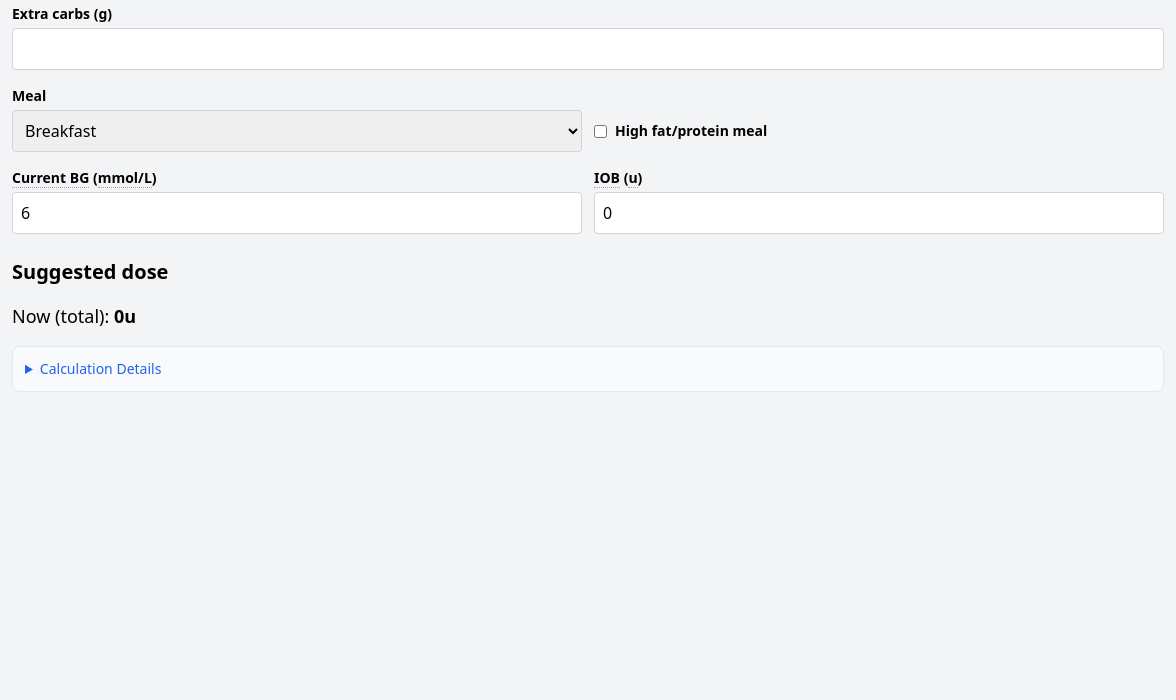
Test: DoseRecommendation › shows breakdown details when expanded
What coordinates should you click on to do the following:
click the heading "Calculation Details"
I would click on:
 (101, 368)
Its box is left=40, top=359, right=161, bottom=378.
(page scrolled)
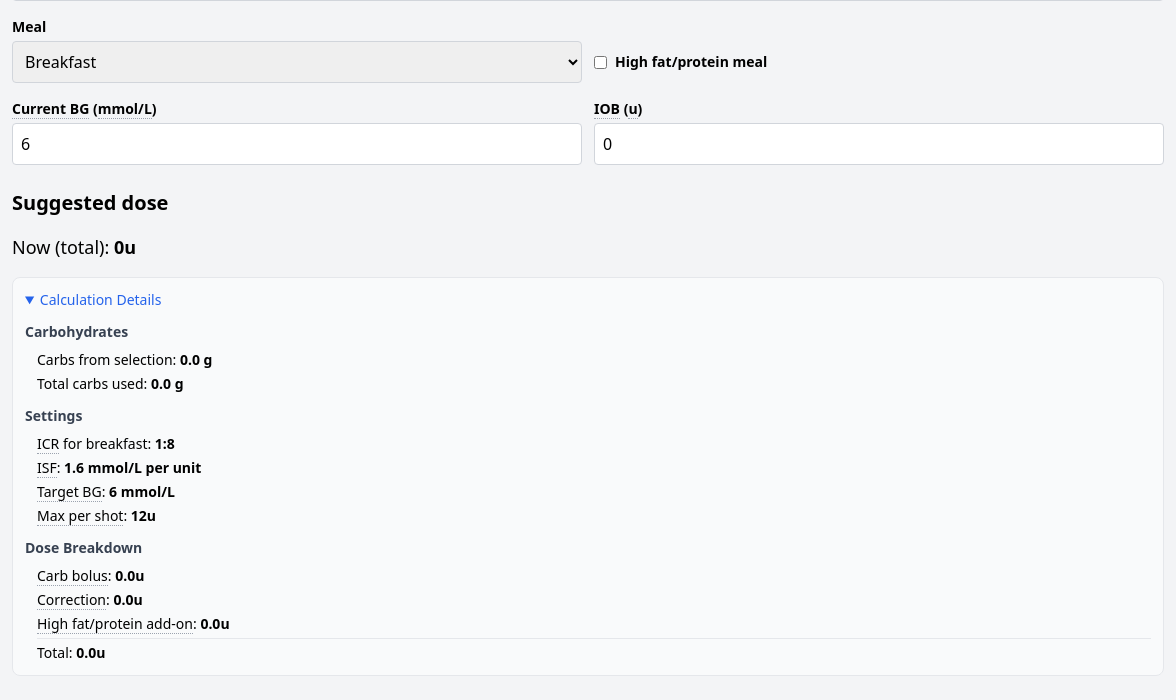
Expected: the text "Carb bolus" is shown, left=37, top=566, right=108, bottom=586
Expected: the text "Correction" is shown, left=37, top=590, right=106, bottom=610
Expected: the text "High fat/protein add-on" is shown, left=37, top=614, right=193, bottom=634
